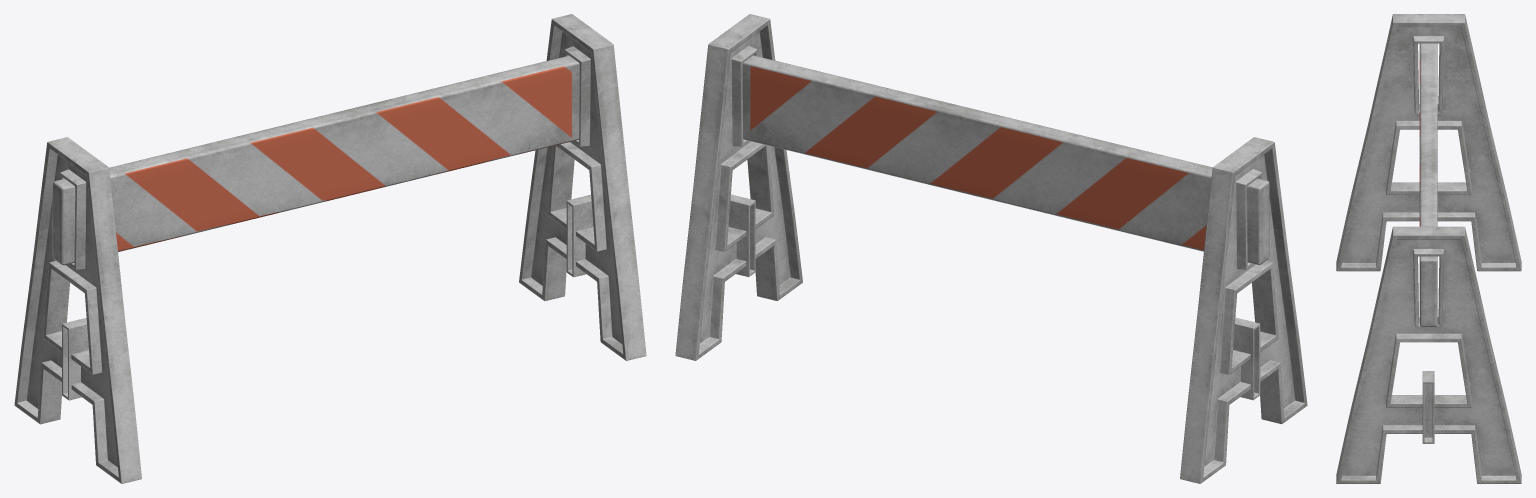
Rendered from traffic2.glb.
The picture shows the model from 3 angles, left to right: view 1: azimuth 30°, elevation 25°; view 2: azimuth 150°, elevation 25°; view 3: azimuth 270°, elevation 25°; orthographic projection. The views are drawn at different scales.
Parts seen in each view (by area): view 1: Object_2, Object_3; view 2: Object_2, Object_3; view 3: Object_2, Object_3.
Boxes of the visible parts, bbox=[...] form: Object_2: bbox=[14, 55, 579, 483]; Object_3: bbox=[519, 14, 646, 360]; Object_2: bbox=[742, 55, 1307, 483]; Object_3: bbox=[675, 14, 802, 360]; Object_2: bbox=[1336, 14, 1521, 326]; Object_3: bbox=[1336, 226, 1521, 483].
Size of the model in its own units: 2.29 by 1.16 by 0.7807.
Materials: 1 (1 with a texture image).
